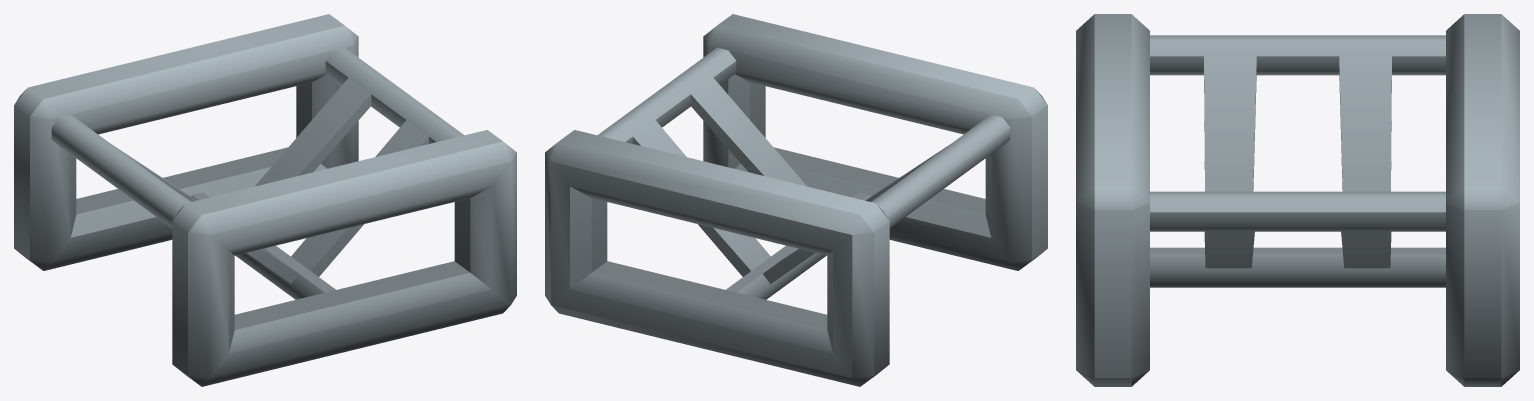
File: kay-dishrack.glb
3 views of the same model, side by side, from view 1: azimuth 30°, elevation 25°; view 2: azimuth 150°, elevation 25°; view 3: azimuth 270°, elevation 25° (orthographic). The views are drawn at different scales.
Visible parts, largest first — view 1: dishrack; view 2: dishrack; view 3: dishrack.
Boxes of the visible parts, left/top/right/bottom form: dishrack: left=14, top=14, right=516, bottom=386; dishrack: left=545, top=14, right=1047, bottom=386; dishrack: left=1076, top=14, right=1519, bottom=386.
Bounding box in the file's own units: 0.22 × 0.11 × 0.22.
1 material, 1 textured.
